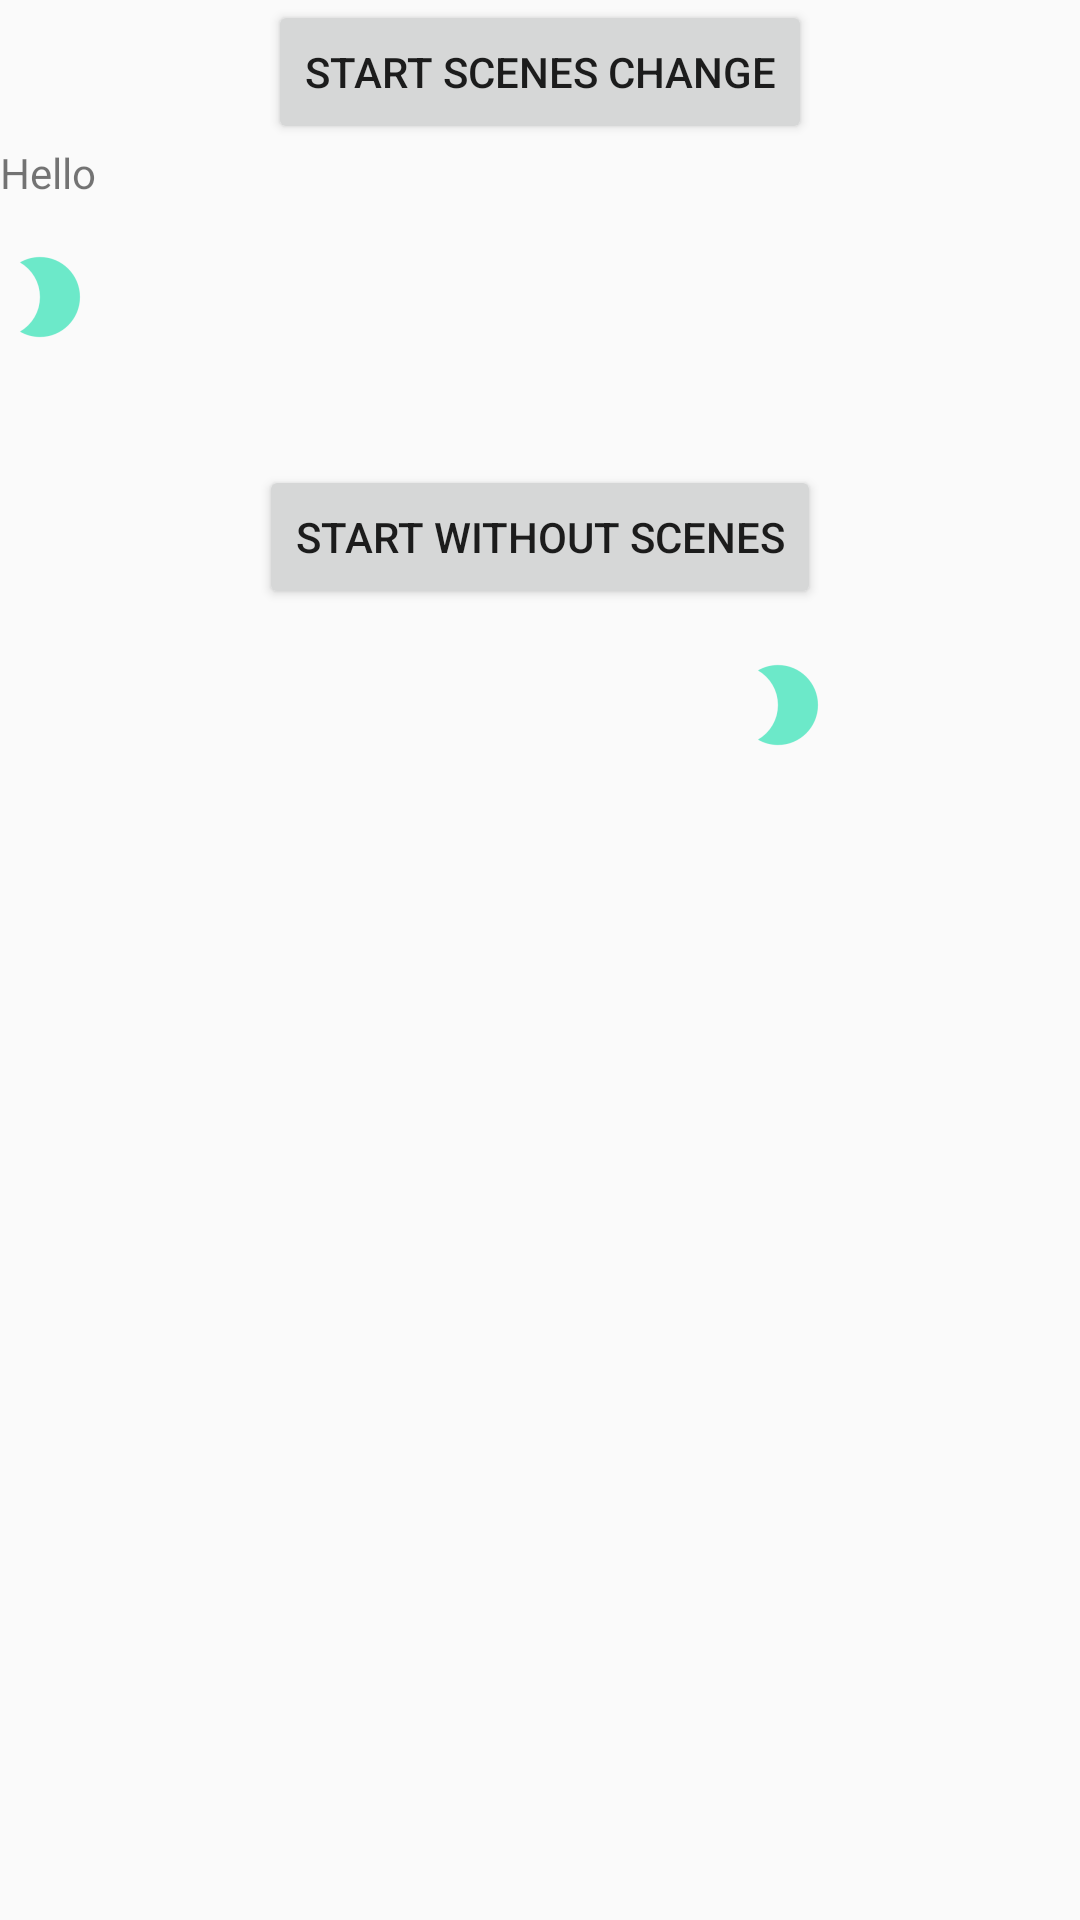

Point at icon controls on the screen. Image size 1080w x 1920h, points as [x,y].
moon: [50,297], [788,705]
